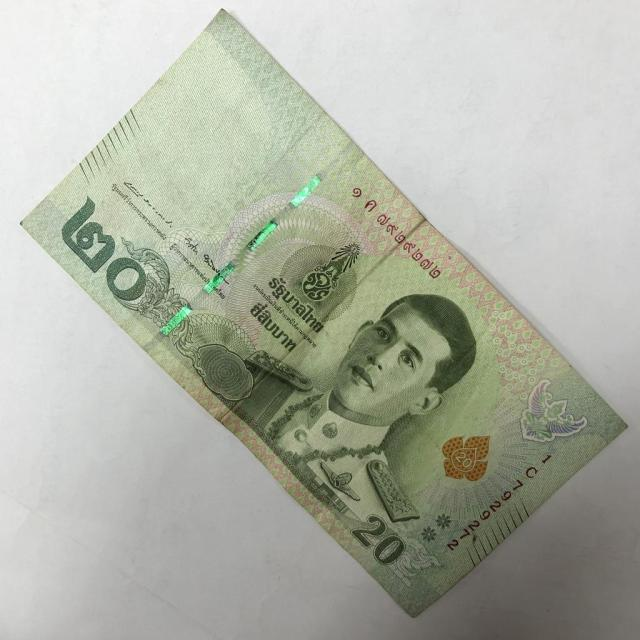THAI20: (21, 10, 626, 616)
